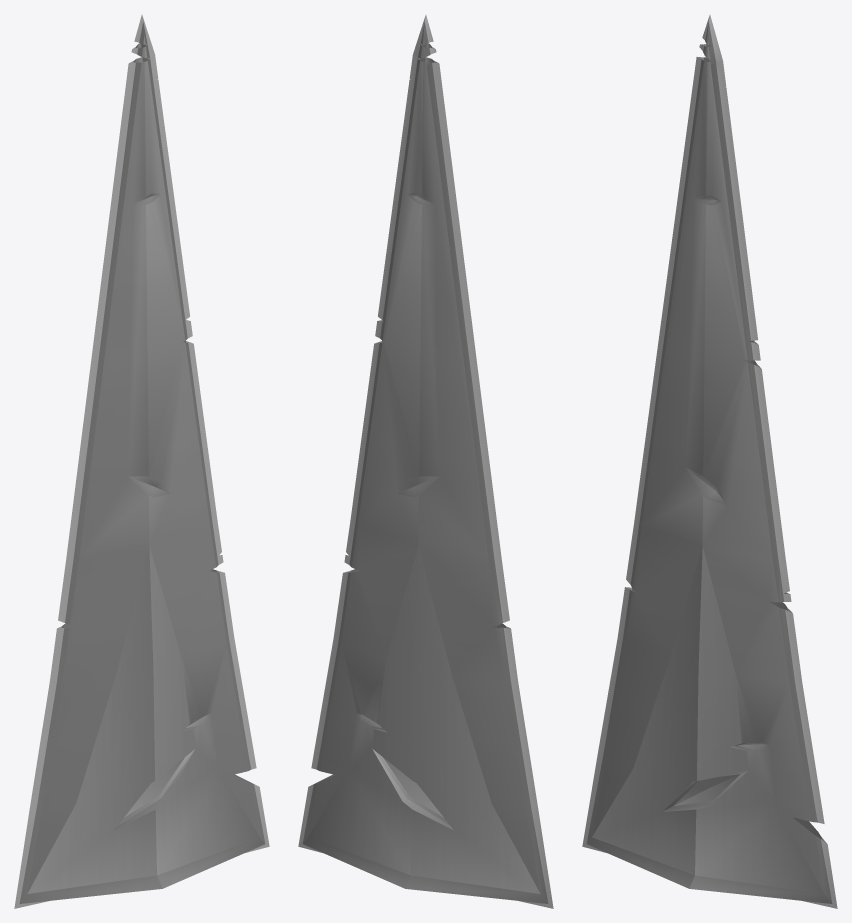
File: stone_blade_scratched_043.glb
3 renders of one model, left to right at view 1: azimuth 30°, elevation 25°; view 2: azimuth 150°, elevation 25°; view 3: azimuth 330°, elevation 25°, orthographic.
Visible parts, largest first — view 1: stone_blade_scratched.043; view 2: stone_blade_scratched.043; view 3: stone_blade_scratched.043.
Boxes of the visible parts, <box> form: stone_blade_scratched.043: <box>14,15,269,908</box>; stone_blade_scratched.043: <box>298,15,553,908</box>; stone_blade_scratched.043: <box>582,15,837,908</box>.
Size of the model in its own units: 3.52 by 11.43 by 0.9907.
1 material, 1 textured.
